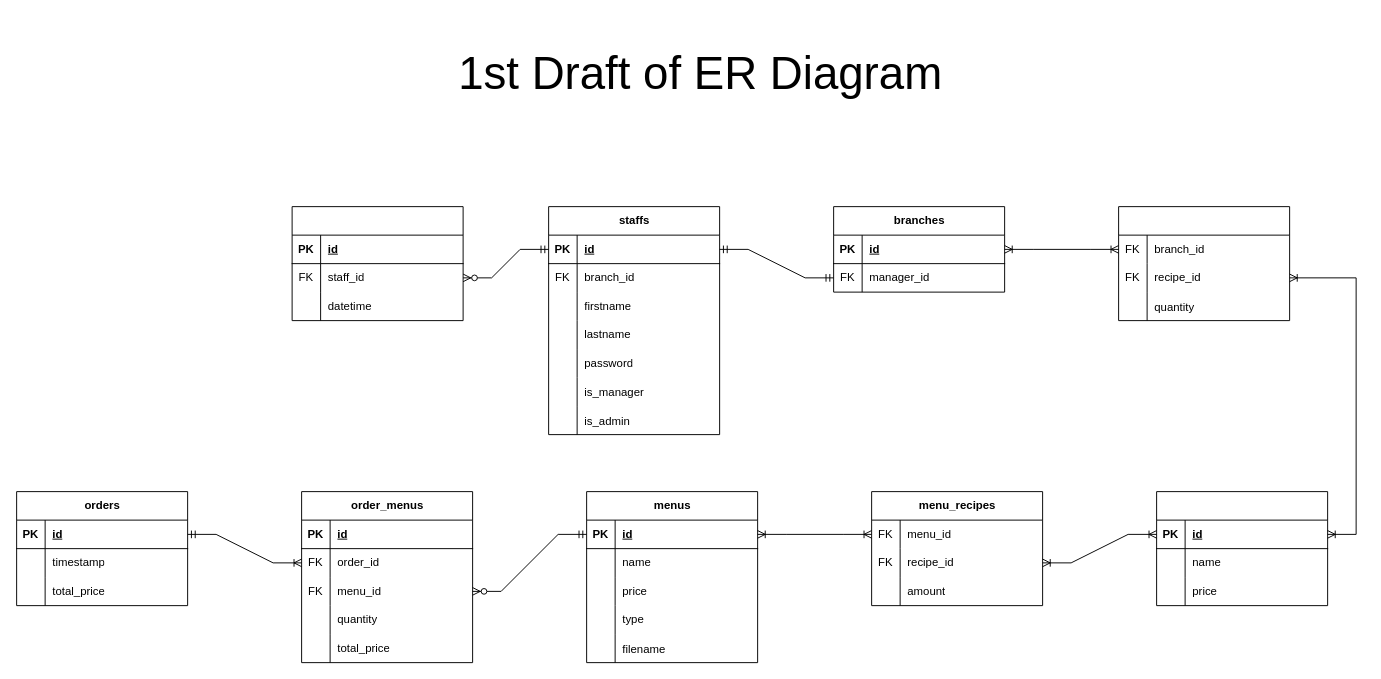
Image size: 1381x679. Some labels were removed from this diagram. The box of each missing label's shape, as (x1, y1, x2, y2) in pixels:
checkins: (291, 206, 463, 321)
recipes: (1156, 491, 1328, 606)
stock: (1118, 206, 1290, 321)
